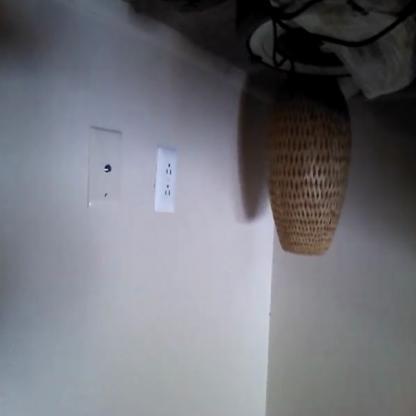OUTLET: (154, 146, 178, 212)
